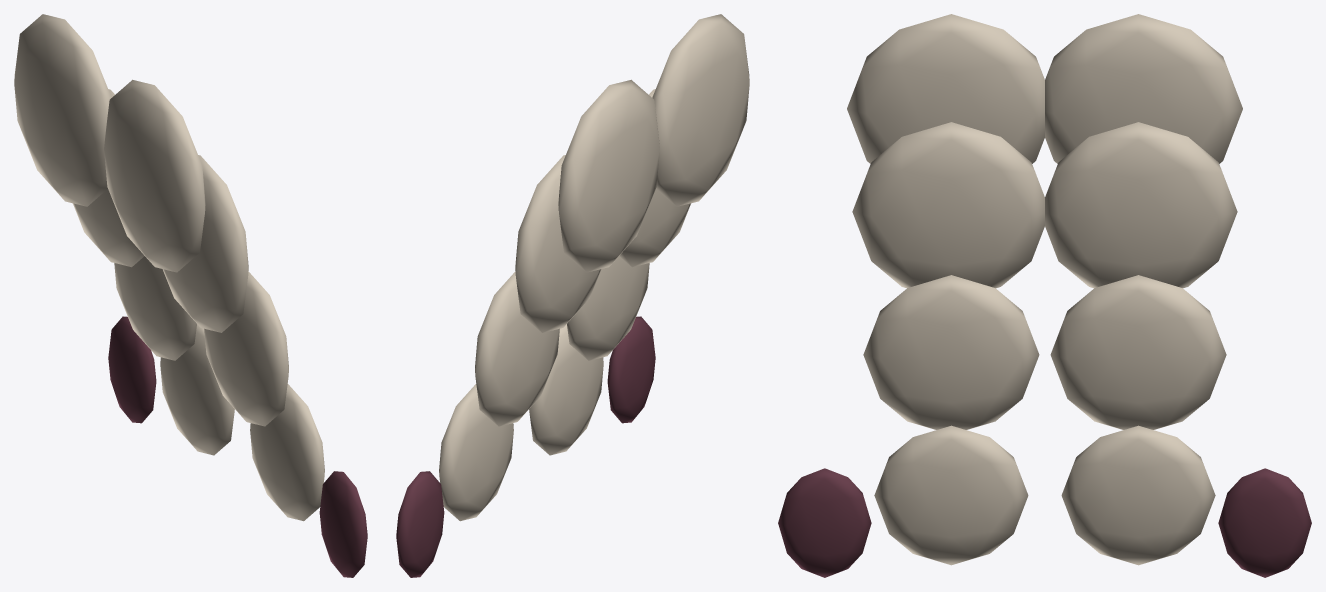
Rendered from creature.rexmaw.glb.
3 views of the same model, side by side, from view 1: azimuth 30°, elevation 25°; view 2: azimuth 150°, elevation 25°; view 3: azimuth 270°, elevation 25° (orthographic). The views are drawn at different scales.
Visible parts, largest first — view 1: Skin, Dark; view 2: Skin, Dark; view 3: Skin, Dark.
Boxes of the visible parts, left/top/right/bottom form: Skin: left=14, top=14, right=324, bottom=521; Dark: left=108, top=316, right=367, bottom=577; Skin: left=439, top=14, right=749, bottom=521; Dark: left=396, top=316, right=655, bottom=577; Skin: left=847, top=14, right=1242, bottom=565; Dark: left=778, top=468, right=1311, bottom=577.
Size of the model in its own units: 0.3528 by 1 by 0.97.
